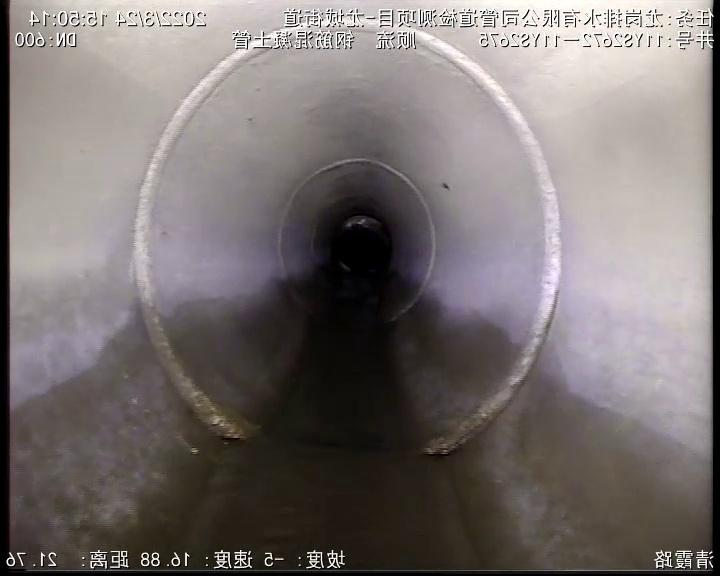CKTJ: (410, 29, 562, 454), (132, 44, 258, 439), (280, 158, 437, 321)
